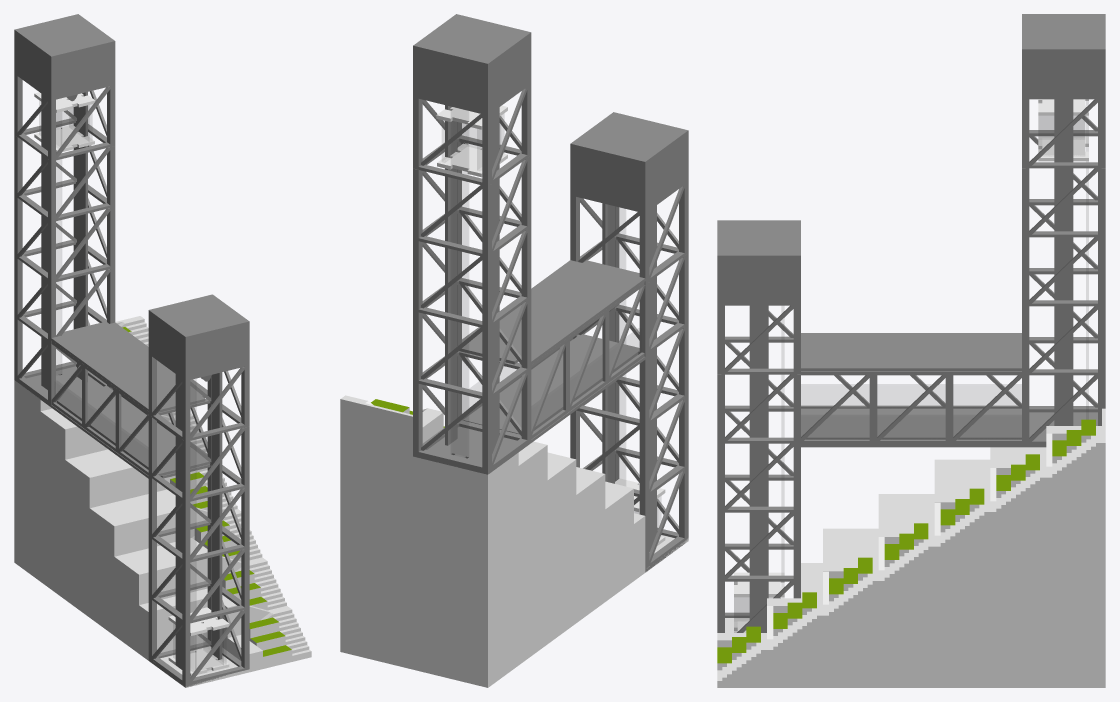
Rendered from asset.gltf.
3 renders of one model, left to right at view 1: azimuth 30°, elevation 25°; view 2: azimuth 150°, elevation 25°; view 3: azimuth 270°, elevation 25°, orthographic. The views are drawn at different scales.
Visible parts, largest first — view 1: Assembly-310, Assembly-285, Assembly-190, Assembly-1488, Assembly-1514, Assembly-1483, Assembly-300, Assembly-1509, Assembly-1678, Assembly-488, Assembly-321, Assembly-185 (+72 smaller); view 2: Assembly-310, Assembly-326, Assembly-285, Assembly-300, Assembly-1488, Assembly-1514, Assembly-321, Assembly-1478, Assembly-1504, Assembly-195, Assembly-715, Assembly-428 (+81 smaller); view 3: Assembly-310, Assembly-285, Assembly-321, Assembly-190, Assembly-290, Assembly-295, Assembly-305, Assembly-1493, Assembly-1519, Assembly-1525, Assembly-1678, Assembly-1514 (+61 smaller).
Part boxes in pixels (left/top/right/bottom): Assembly-310: left=51, top=321, right=207, bottom=413; Assembly-285: left=57, top=388, right=205, bottom=470; Assembly-190: left=211, top=372, right=222, bottom=659; Assembly-1488: left=14, top=14, right=115, bottom=58; Assembly-1514: left=148, top=294, right=249, bottom=339; Assembly-1483: left=53, top=44, right=112, bottom=94; Assembly-300: left=51, top=341, right=148, bottom=475; Assembly-1509: left=188, top=324, right=246, bottom=375; Assembly-1678: left=14, top=453, right=227, bottom=529; Assembly-488: left=148, top=352, right=154, bottom=659; Assembly-321: left=77, top=92, right=87, bottom=381; Assembly-185: left=175, top=374, right=182, bottom=669; Assembly-310: left=459, top=260, right=649, bottom=364; Assembly-326: left=451, top=107, right=468, bottom=457; Assembly-285: left=463, top=336, right=638, bottom=434; Assembly-300: left=531, top=282, right=644, bottom=439; Assembly-1488: left=413, top=14, right=531, bottom=66; Assembly-1514: left=570, top=112, right=688, bottom=164; Assembly-321: left=445, top=105, right=457, bottom=445; Assembly-1478: left=416, top=49, right=485, bottom=108; Assembly-1504: left=573, top=147, right=642, bottom=206; Assembly-195: left=608, top=205, right=625, bottom=485; Assembly-715: left=524, top=81, right=531, bottom=441; Assembly-428: left=681, top=179, right=688, bottom=539; Assembly-310: left=801, top=333, right=1021, bottom=371; Assembly-285: left=801, top=408, right=1021, bottom=439; Assembly-321: left=1054, top=99, right=1073, bottom=425; Assembly-190: left=749, top=305, right=768, bottom=632; Assembly-290: left=801, top=371, right=1021, bottom=444; Assembly-295: left=801, top=415, right=1021, bottom=438; Assembly-305: left=801, top=384, right=1021, bottom=407; Assembly-1493: left=1022, top=48, right=1105, bottom=96; Assembly-1519: left=717, top=254, right=800, bottom=302; Assembly-1525: left=823, top=528, right=1105, bottom=601; Assembly-1678: left=878, top=494, right=1105, bottom=567; Assembly-1514: left=717, top=220, right=800, bottom=258.
Bounding box in the file's own units: 13 × 52.55 × 30.6.
